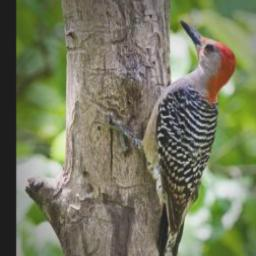Woodpecker: (90, 15, 247, 256)
